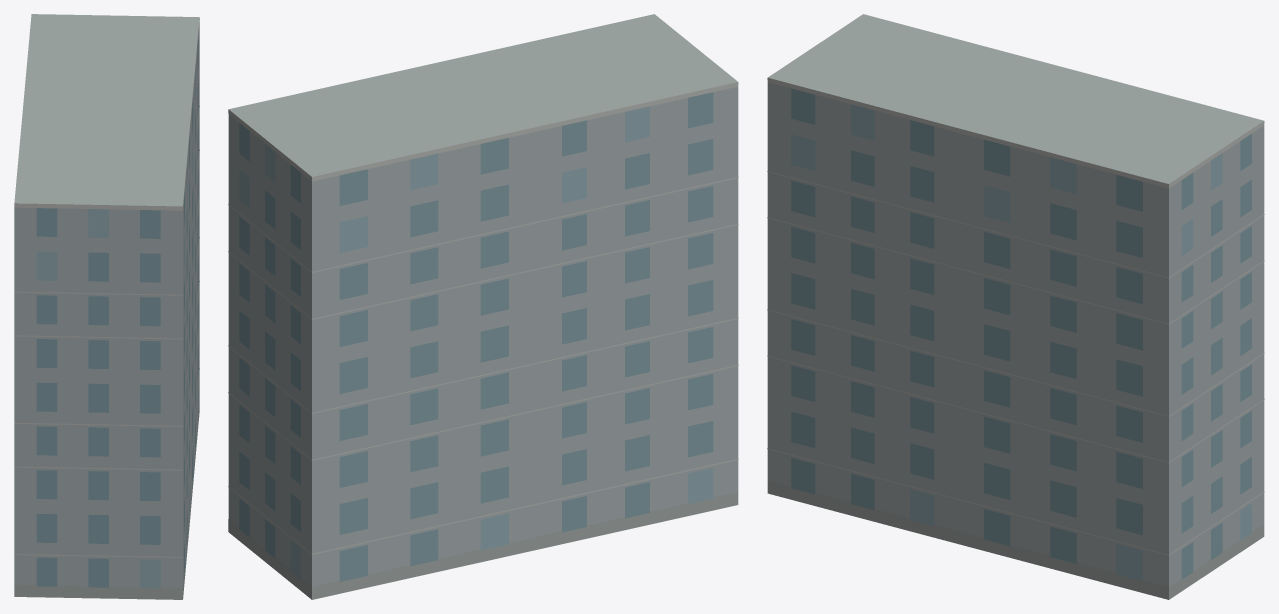
The model's file is survey-upis-32726627.glb.
The picture shows the model from 3 angles, left to right: view 1: azimuth 30°, elevation 25°; view 2: azimuth 150°, elevation 25°; view 3: azimuth 270°, elevation 25°; orthographic projection. The views are drawn at different scales.
Visible parts, largest first — view 1: survey-upis-32726627.tmp; view 2: survey-upis-32726627.tmp; view 3: survey-upis-32726627.tmp.
Part boxes in pixels (<box>): survey-upis-32726627.tmp: <box>14,14,199,599</box>; survey-upis-32726627.tmp: <box>228,14,738,599</box>; survey-upis-32726627.tmp: <box>767,14,1264,599</box>.
Bounding box in the file's own units: 19.85 × 22.6 × 24.49.
